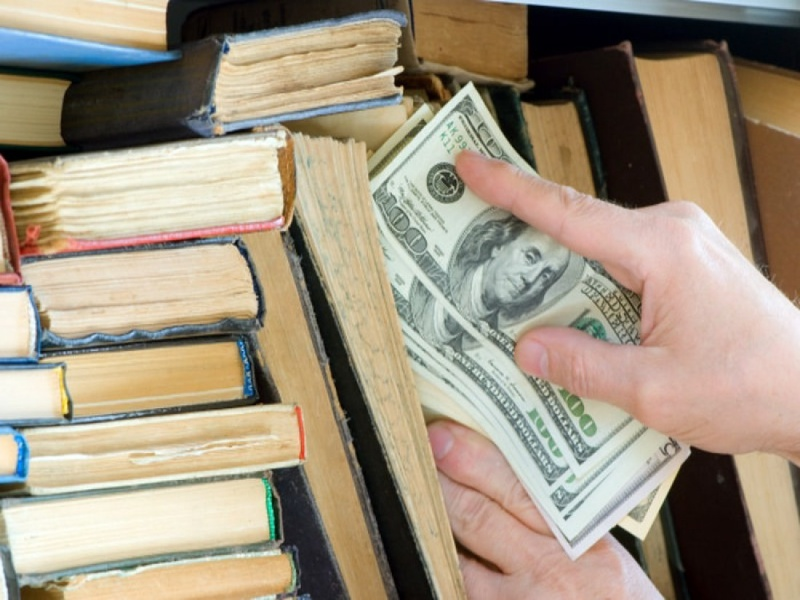cash: (369, 80, 692, 559)
